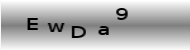9: (113, 7, 128, 21)
D: (70, 25, 87, 39)
E: (26, 17, 40, 31)
a: (97, 24, 110, 36)
w: (47, 22, 65, 33)
